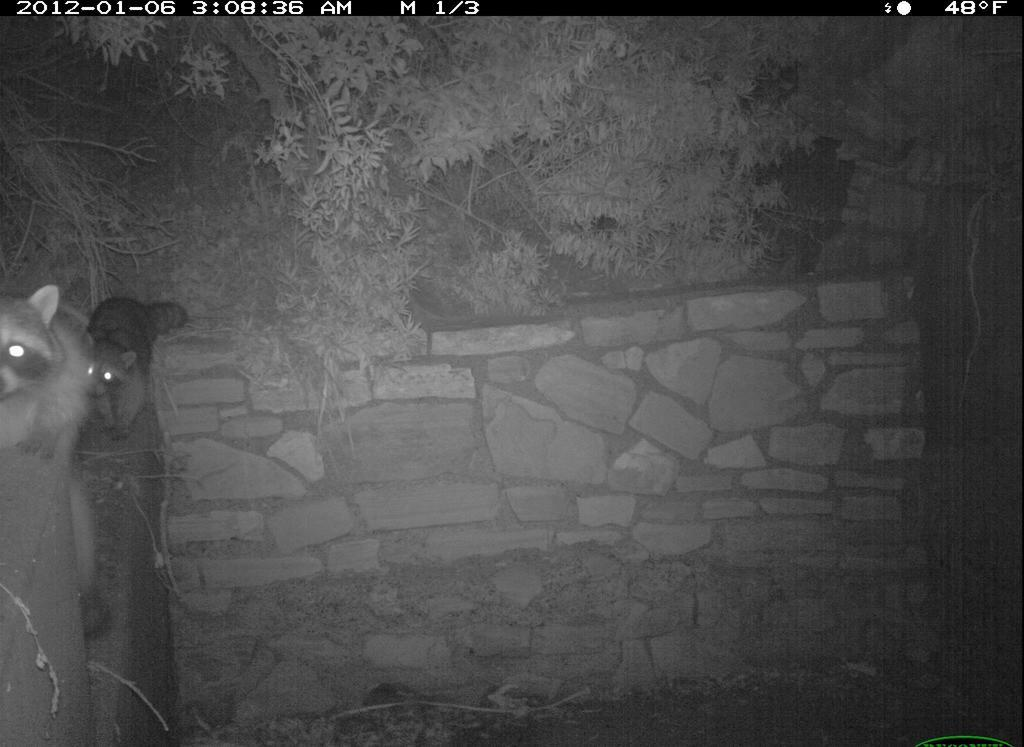raccoon: (71, 255, 190, 455), (1, 271, 79, 490)
